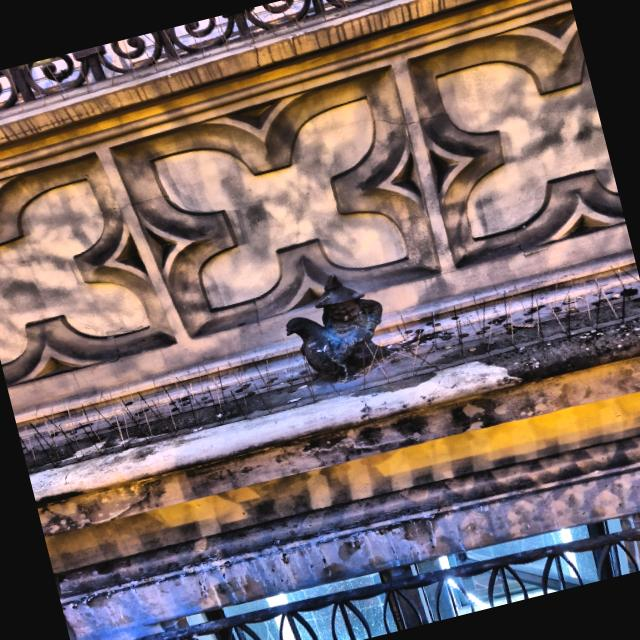Golebnik: (285, 274, 382, 380)
